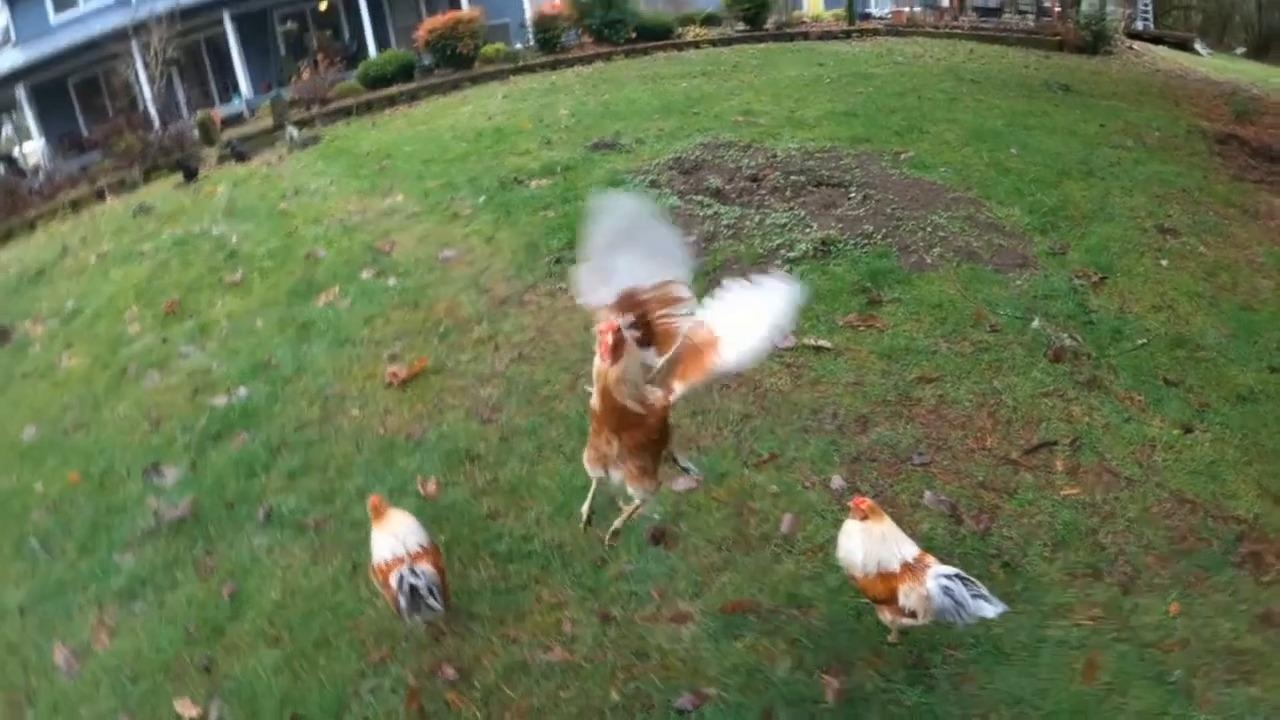Normal: (560, 168, 784, 544), (818, 472, 1004, 634), (342, 490, 474, 638)
